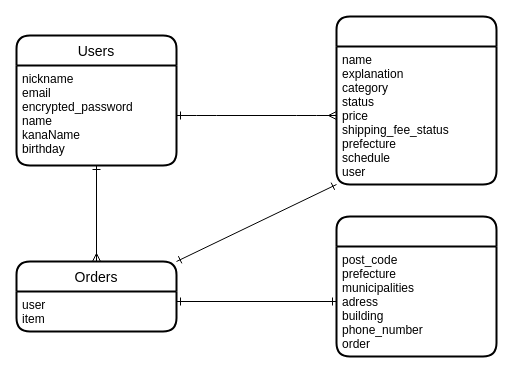
Some shapes in this 513 by 373 pixel diagram are drawn without their labels. Each missing label, with the box of its shape:
Items: (335, 15, 497, 185)
Shipping_address: (335, 215, 497, 357)
